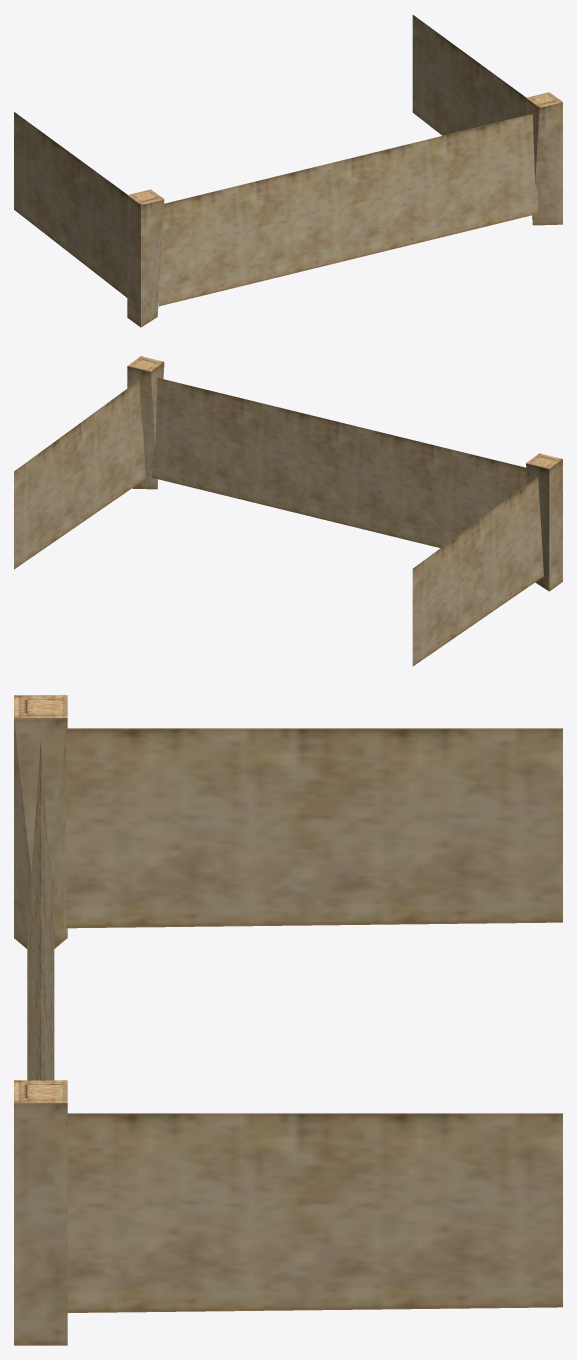
File: poi_tato_corral_pen_16x8_s01_l1.fbx
The picture shows the model from 3 angles, top to bottom: view 1: azimuth 30°, elevation 25°; view 2: azimuth 150°, elevation 25°; view 3: azimuth 270°, elevation 25°; orthographic projection. The views are drawn at different scales.
Parts seen in each view (by area): view 1: mesh_node; view 2: mesh_node; view 3: mesh_node.
Boxes of the visible parts, bbox=[...] form: mesh_node: bbox=[14, 15, 562, 327]; mesh_node: bbox=[14, 356, 562, 666]; mesh_node: bbox=[14, 695, 562, 1345].
Size of the model in its own units: 18 by 5 by 10.25.
Materials: 1 (1 with a texture image).
